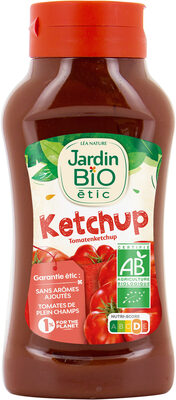Ketchup: (9, 20, 167, 380)
